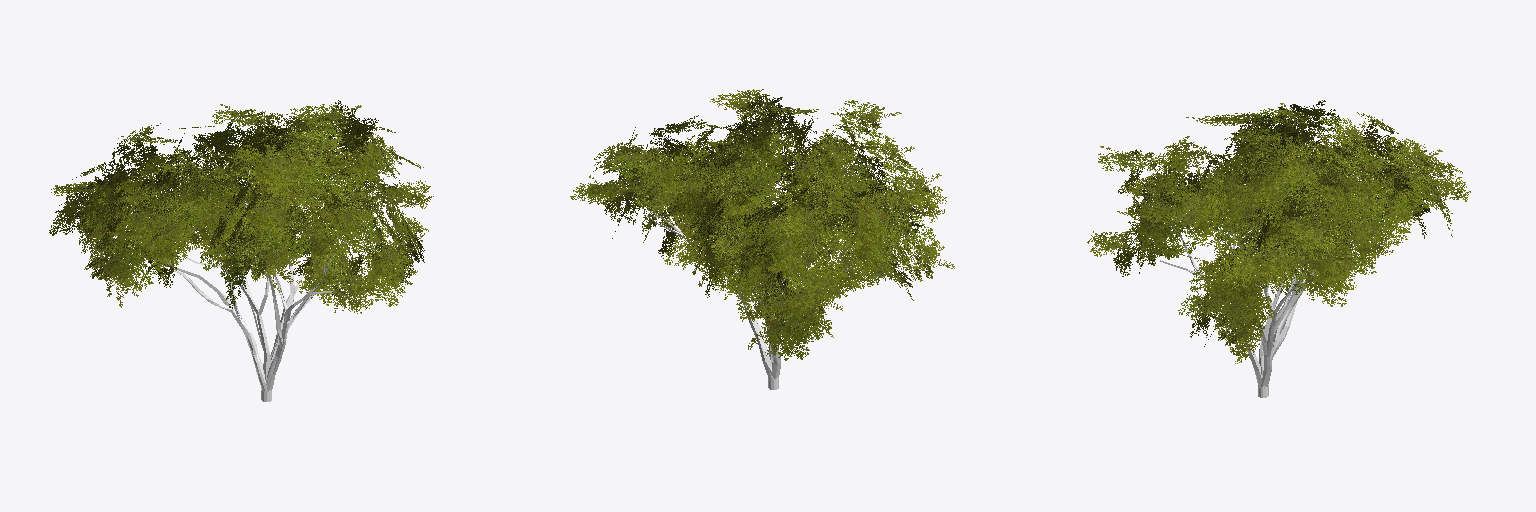
3 renders of one model, left to right at view 1: azimuth 30°, elevation 25°; view 2: azimuth 150°, elevation 25°; view 3: azimuth 270°, elevation 25°, orthographic.
Parts seen in each view (by area): view 1: Foliage__leafcard, Bark; view 2: Foliage__leafcard, Bark; view 3: Foliage__leafcard, Bark.
Part boxes in pixels (x1,y1,x2,y2): Foliage__leafcard: (49, 100, 433, 313); Bark: (117, 170, 371, 401); Foliage__leafcard: (570, 89, 954, 360); Bark: (646, 155, 878, 389); Foliage__leafcard: (1087, 100, 1470, 363); Bark: (1160, 210, 1391, 397).
Bounding box in the file's own units: 5.18 × 4 × 5.19.
2 materials, 1 textured.